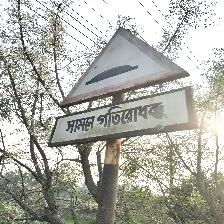Speed-breaker: (51, 26, 199, 147)
